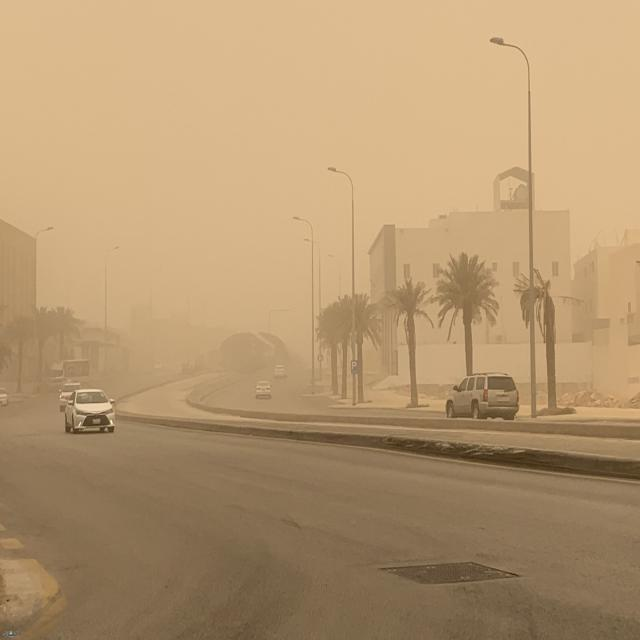Manhole: (368, 554, 529, 594)
